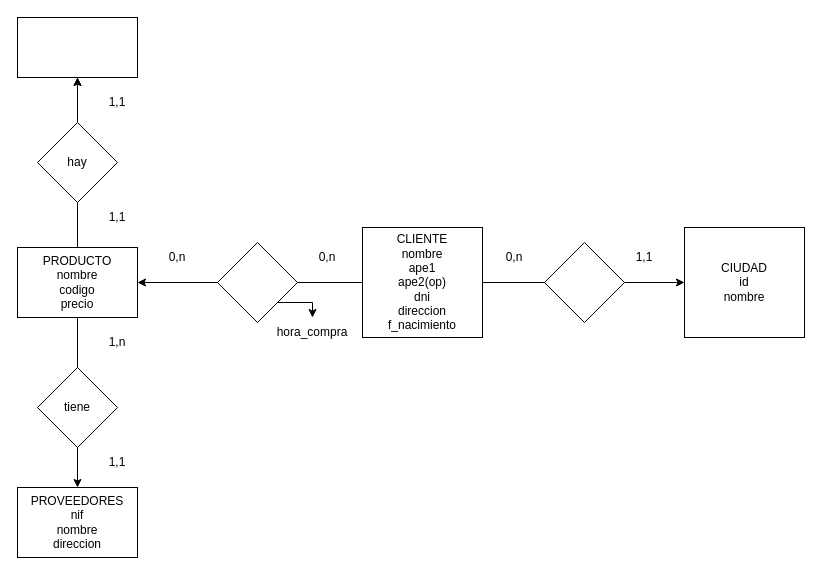
Image size: 822x575. Some labels were removed from this diagram. The shapes that lost their labels are listed below. From the top down, each one's centre as x and y in pixels, then its label:
the point at 77,47: FECHA_COMPRA
the point at 257,282: compra
the point at 584,282: vive
